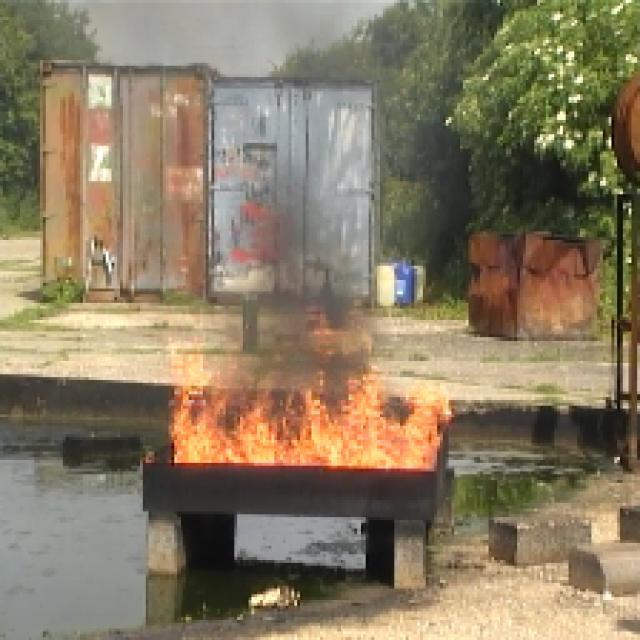Fire: (158, 370, 459, 480)
